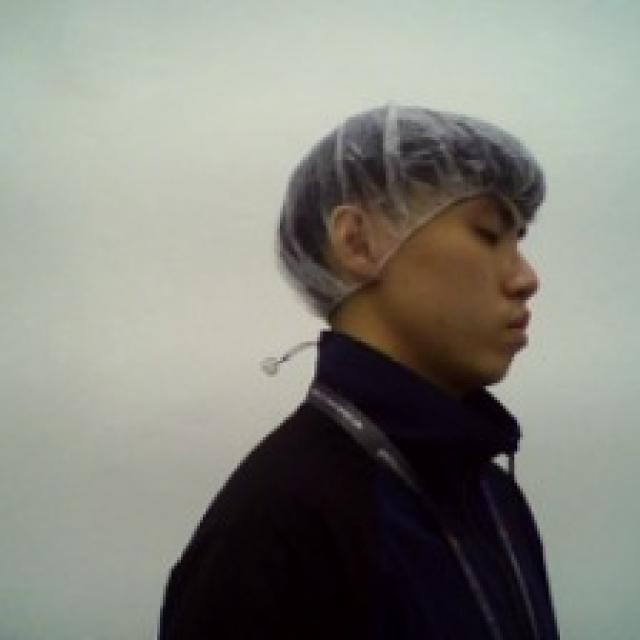gloves: (270, 102, 550, 320)
no_hairnet: (314, 208, 552, 391)
